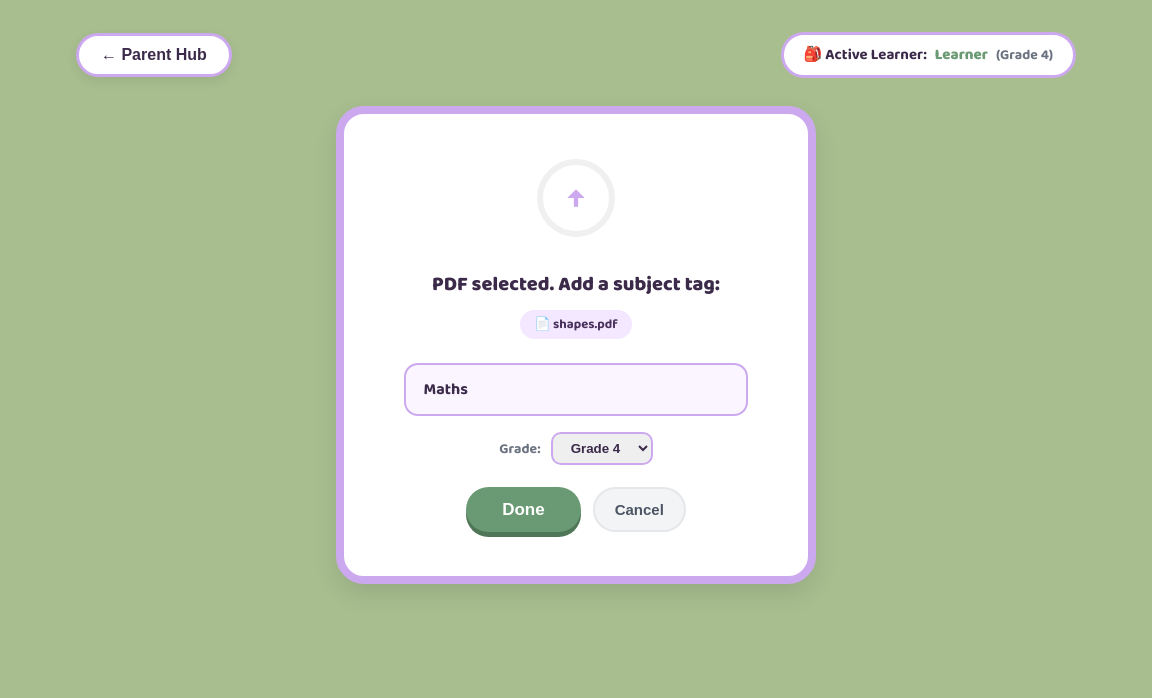
Test case: Curriculum upload results › retains uploaded chapters when refresh fails and lets the parent retry
Earlier steps of the test are not shown.
Step 1. Click the button "Done" → (523, 510), box [466, 487, 581, 532]
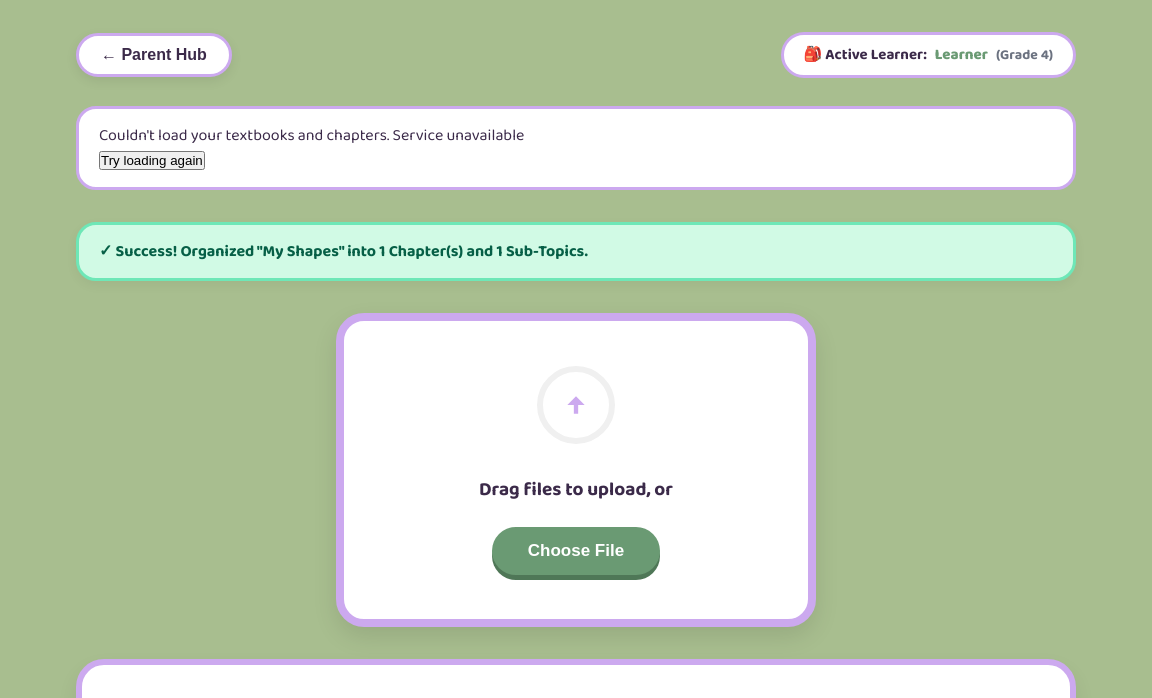
Expected: the message shows "Service unavailable", [99, 123, 524, 148]
Step 2. Click the button "Try loading again" → (152, 160), box [99, 151, 205, 170]
(page scrolled)
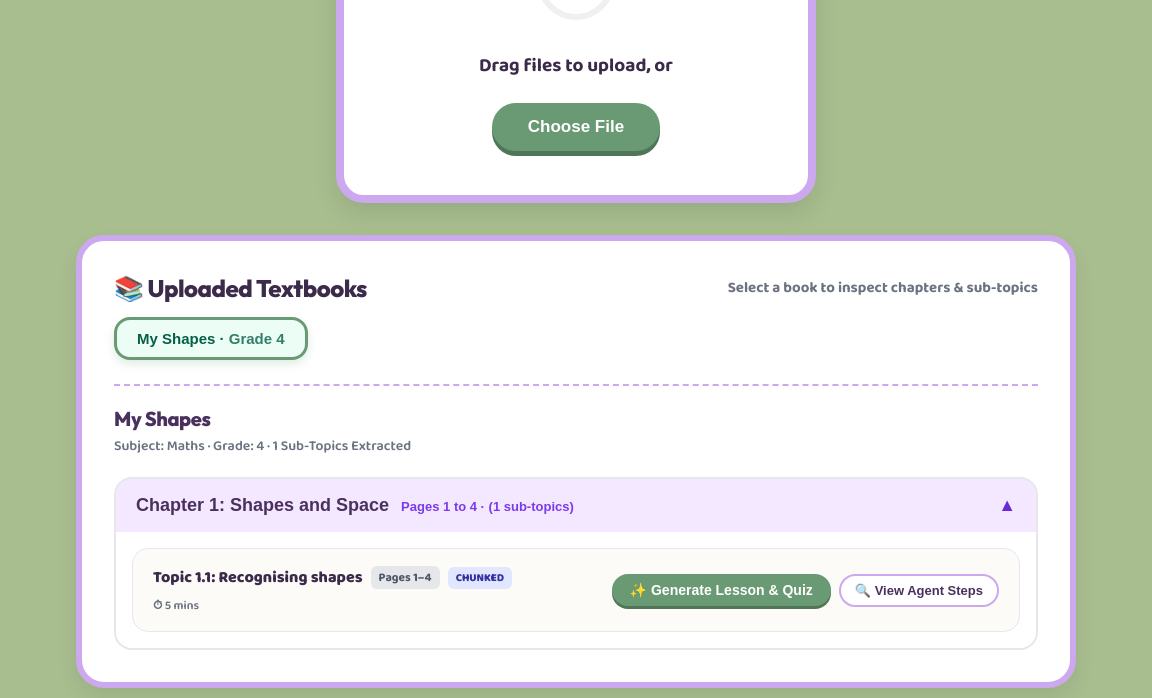
Expected: the text "Topic 1.1: Recognising shapes" is shown, [153, 565, 363, 590]
Expected: the message is gone
